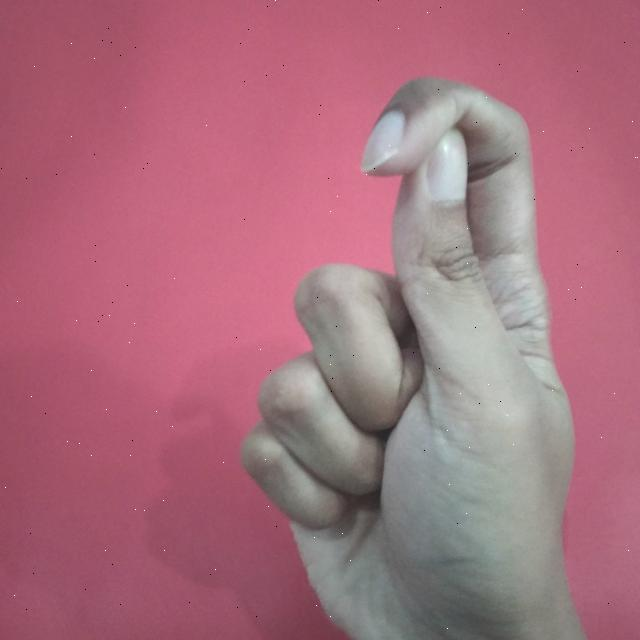T: (235, 71, 594, 640)
